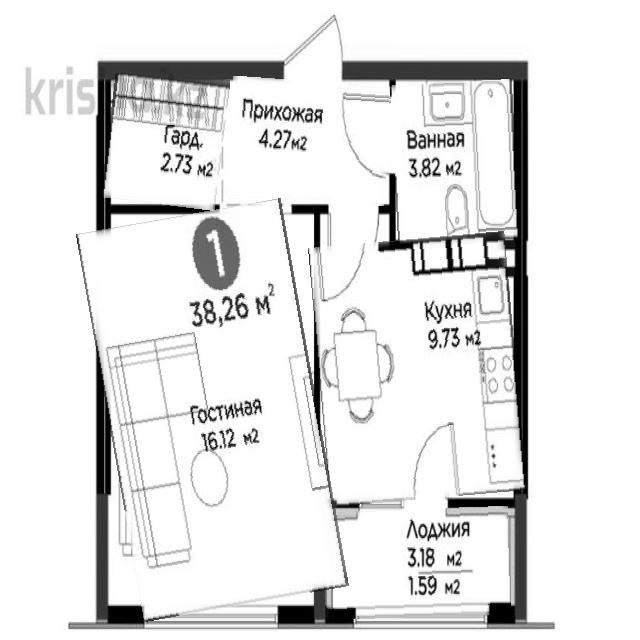balcony: (324, 508, 511, 618)
bathroom: (392, 80, 518, 244)
hallway: (227, 79, 390, 204)
kitchen: (314, 236, 521, 504)
living_room: (93, 206, 333, 615)
other: (104, 69, 227, 208)
